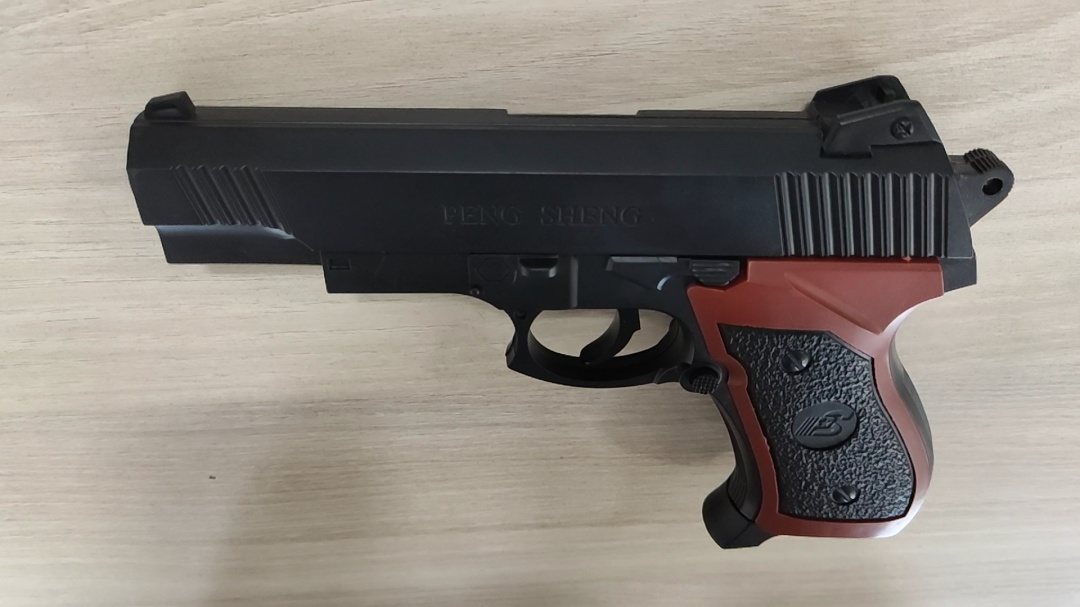gun: (394, 315, 449, 436)
